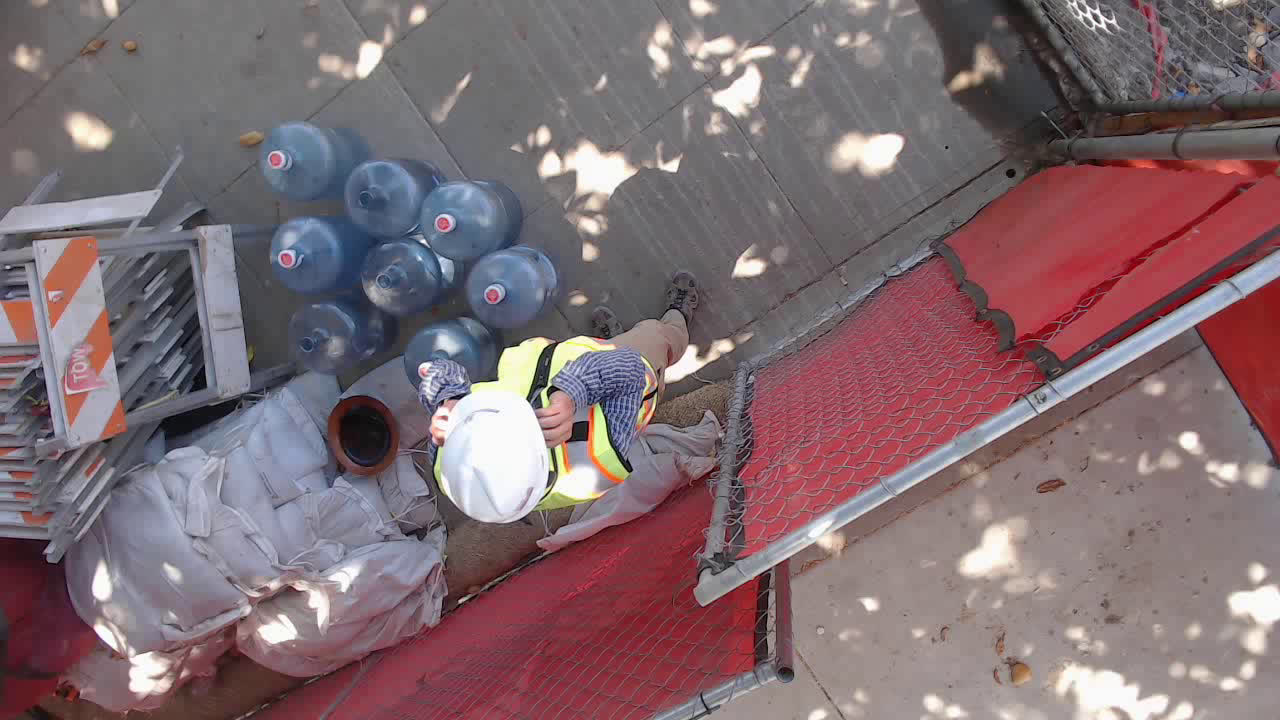hardhat: (434, 387, 546, 522)
safetyvest: (476, 338, 660, 504)
